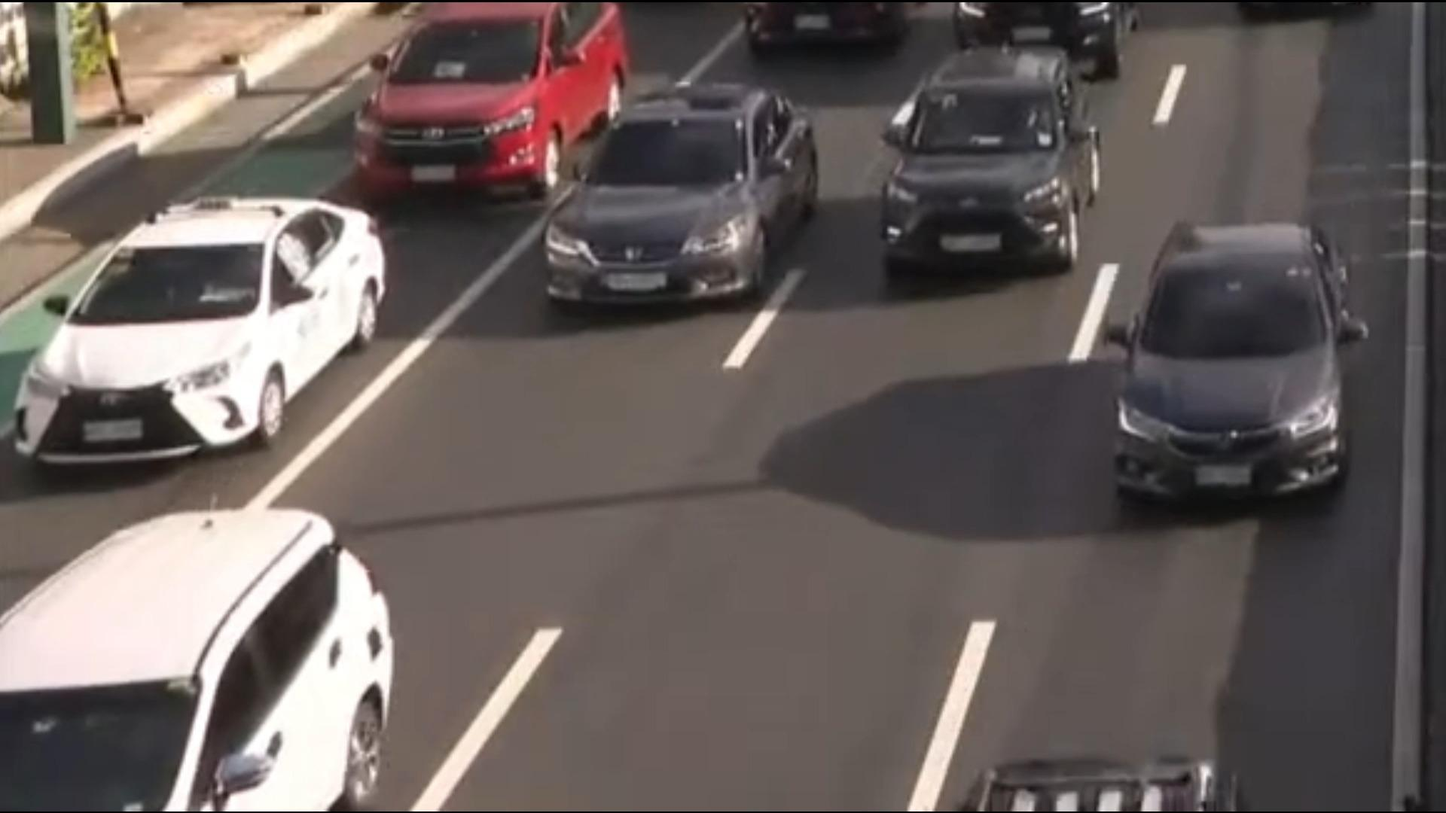SUV: (0, 473, 464, 813), (870, 40, 1117, 298), (358, 0, 648, 208)
Sedan: (0, 183, 413, 491), (1060, 196, 1418, 538), (507, 74, 844, 312)
